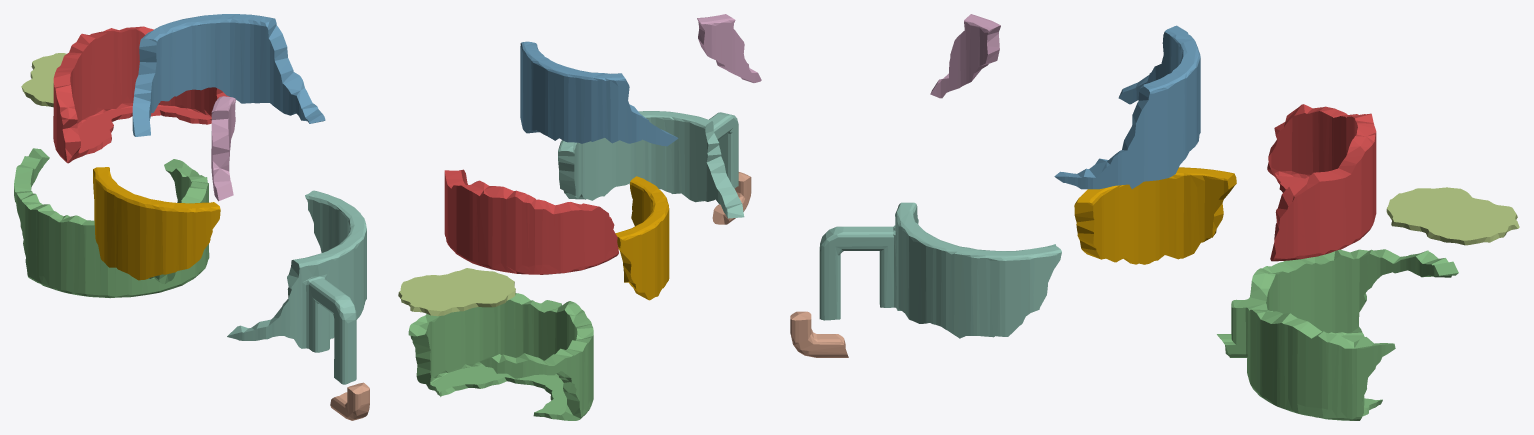
Rendered from mode_10_8pcs_transformed.glb.
The picture shows the model from 3 angles, left to right: view 1: azimuth 30°, elevation 25°; view 2: azimuth 150°, elevation 25°; view 3: azimuth 270°, elevation 25°; orthographic projection. The views are drawn at different scales.
Visible parts, largest first — view 1: piece_2.obj, piece_4.obj, piece_3.obj, piece_1.obj, piece_0.obj, piece_6.obj, piece_5.obj, piece_7.obj; view 2: piece_3.obj, piece_1.obj, piece_4.obj, piece_2.obj, piece_0.obj, piece_5.obj, piece_6.obj, piece_7.obj; view 3: piece_3.obj, piece_4.obj, piece_1.obj, piece_0.obj, piece_2.obj, piece_5.obj, piece_6.obj, piece_7.obj.
Part boxes in pixels (x1,y1,x2,y2): piece_2.obj: (132,14,325,136); piece_4.obj: (227,190,366,384); piece_3.obj: (14,148,209,298); piece_1.obj: (53,26,229,163); piece_0.obj: (93,167,220,280); piece_6.obj: (211,96,235,201); piece_5.obj: (21,53,66,107); piece_7.obj: (330,382,369,420); piece_3.obj: (408,293,593,420); piece_1.obj: (444,169,618,274); piece_4.obj: (558,111,744,218); piece_2.obj: (520,41,678,146); piece_0.obj: (615,176,669,300); piece_5.obj: (398,268,515,316); piece_6.obj: (697,14,761,82); piece_7.obj: (712,172,751,224); piece_3.obj: (1217,249,1458,420); piece_4.obj: (819,202,1061,338); piece_1.obj: (1267,104,1376,261); piece_0.obj: (1074,167,1236,264); piece_2.obj: (1054,25,1200,189); piece_5.obj: (1386,187,1519,245); piece_6.obj: (930,14,1000,98); piece_7.obj: (790,311,848,357).
Size of the model in its own units: 0.7417 by 1.22 by 2.49.
